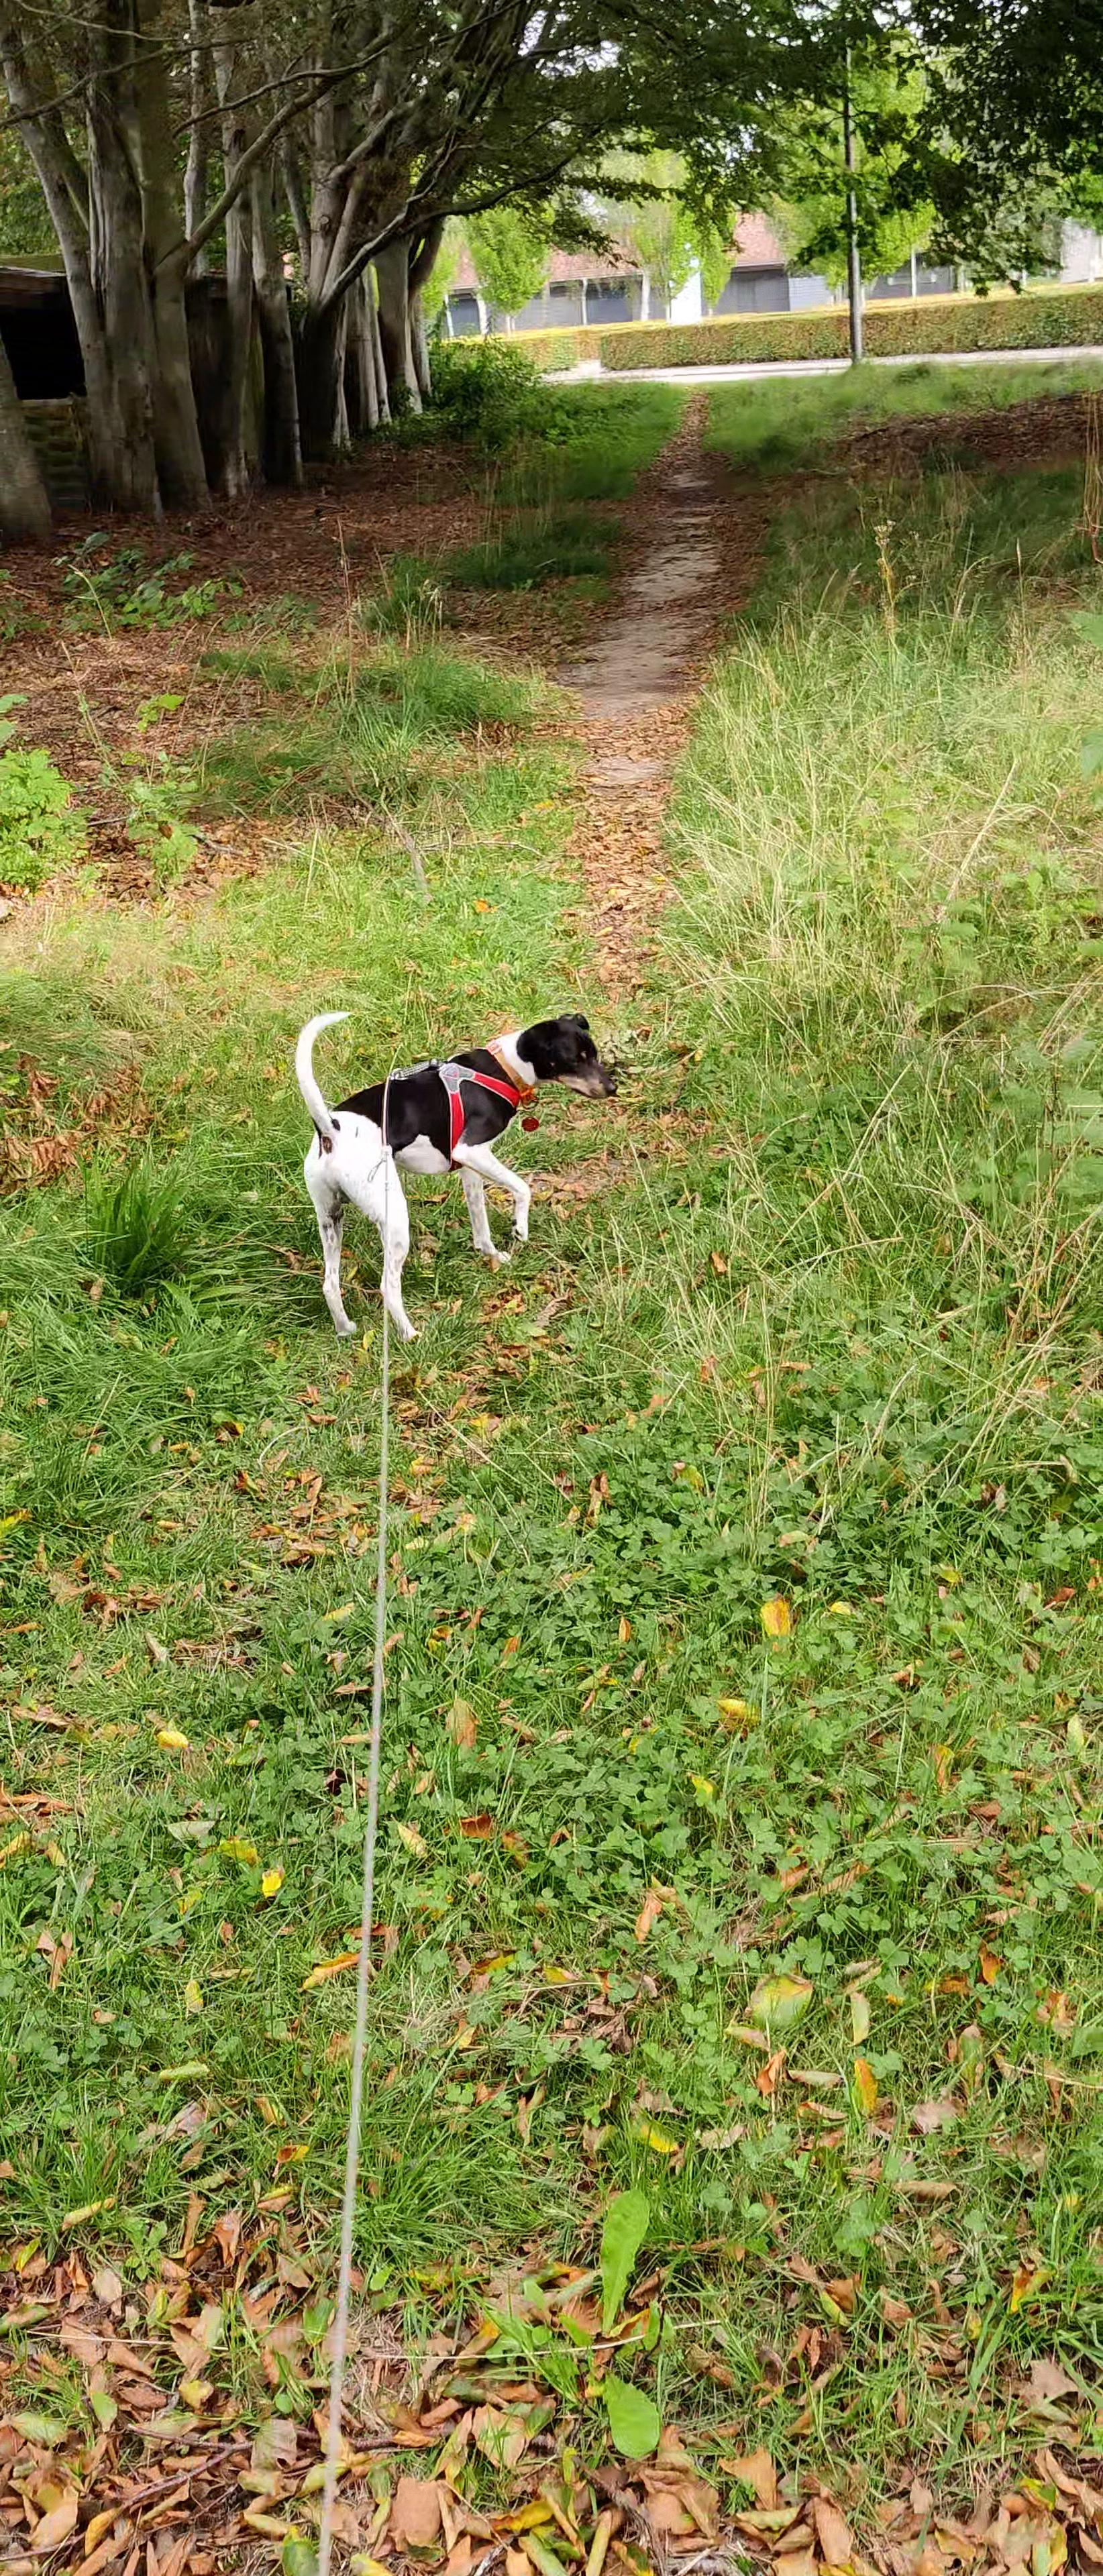Dog: (268, 963, 633, 1365)
